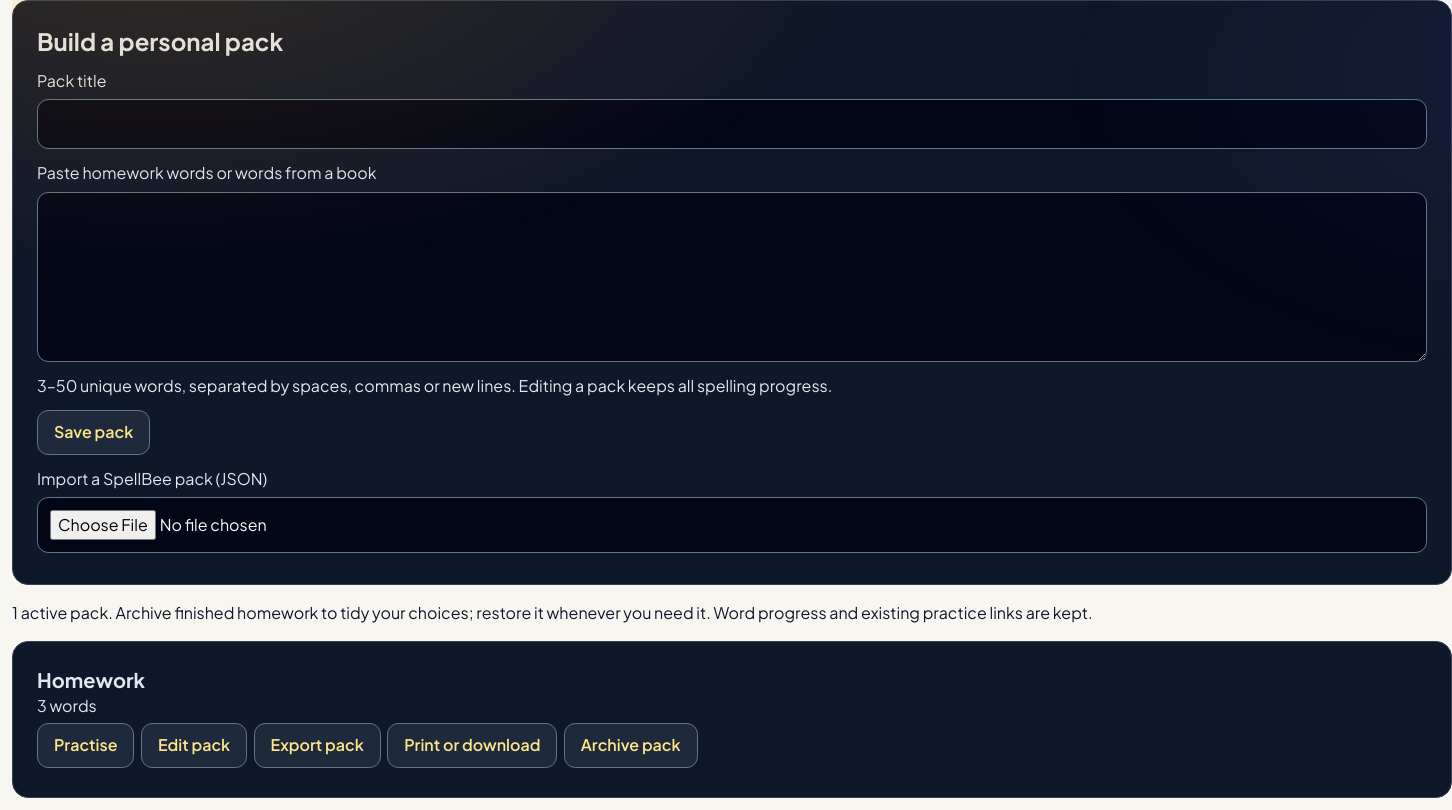
Test: archiving the pack being edited clears the editor
This screenshot has width=1452, height=810.
Click the button "Edit pack".
click(194, 745)  # box [141,722,247,768]
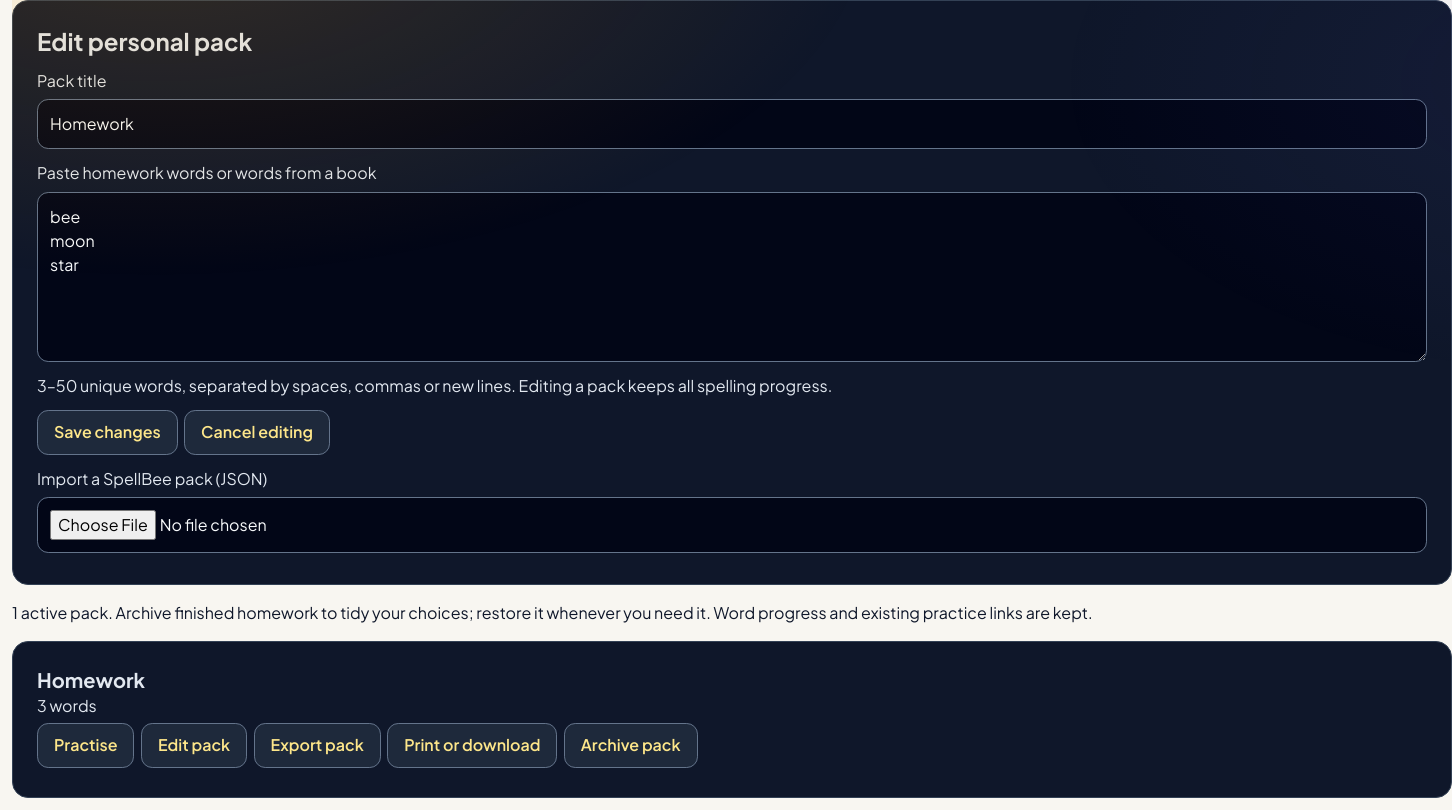
Click the button "Archive pack".
click(631, 745)  # box [564,722,698,768]
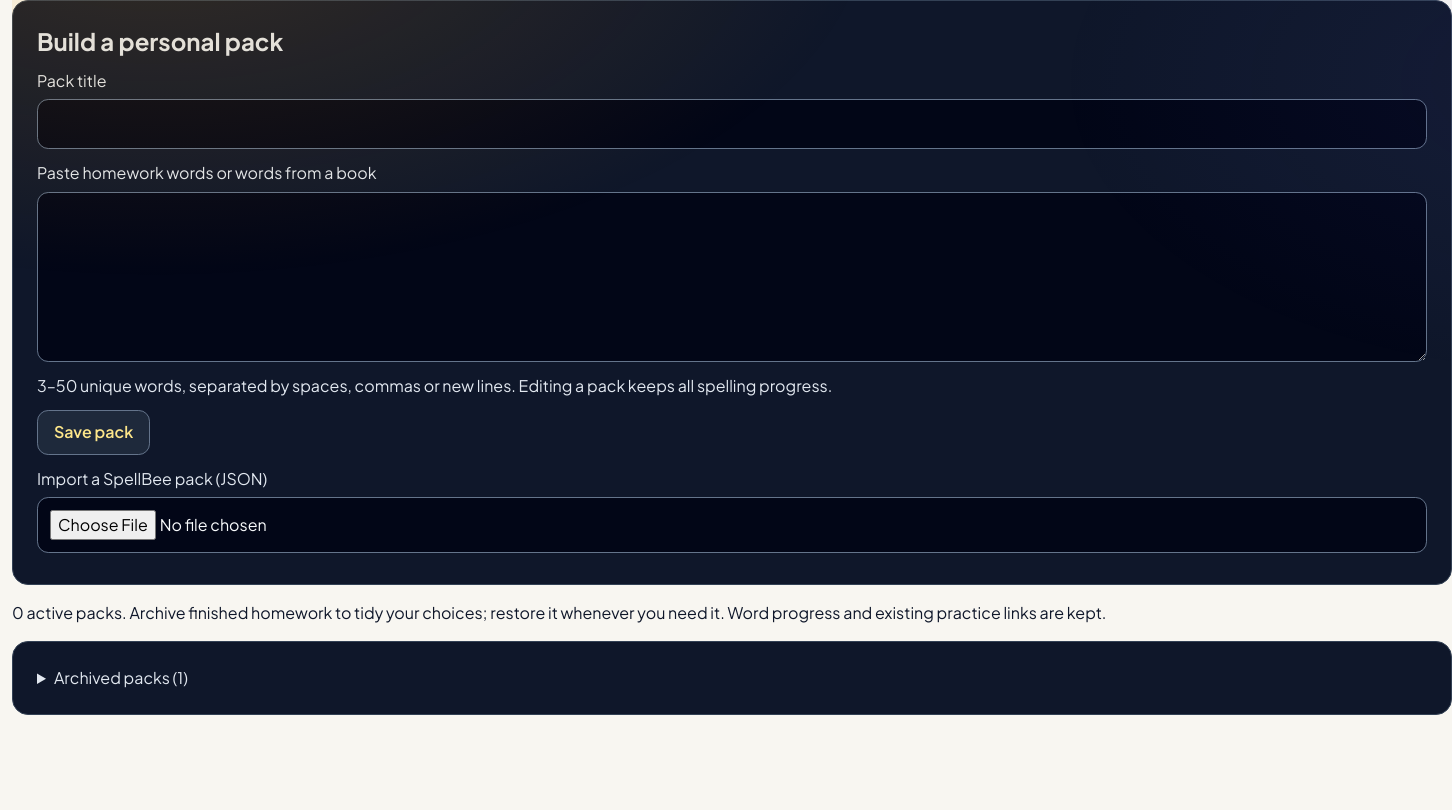
expect the field labelled "Pack title" is empty: met, box [37,99,1427,149]
expect the text "Save changes" is gone: met
